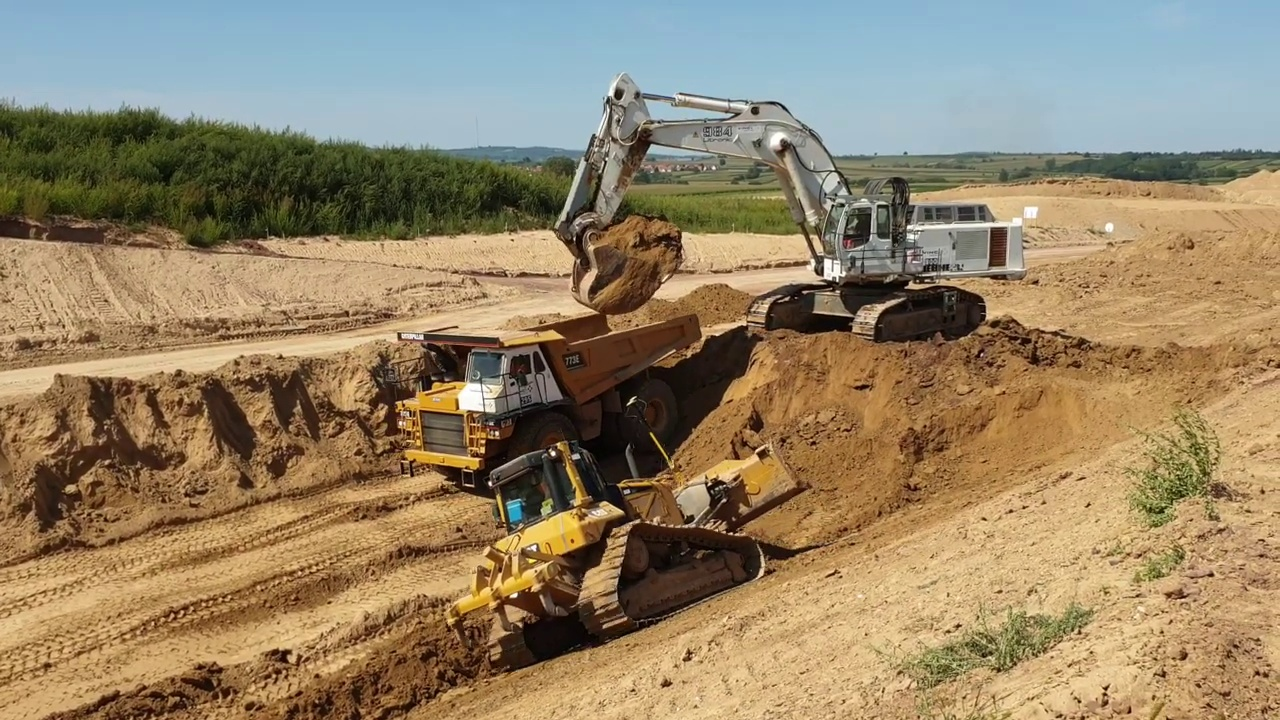bulldozer: (445, 396, 816, 674)
excavator: (547, 64, 1035, 347)
truck: (385, 303, 711, 507)
